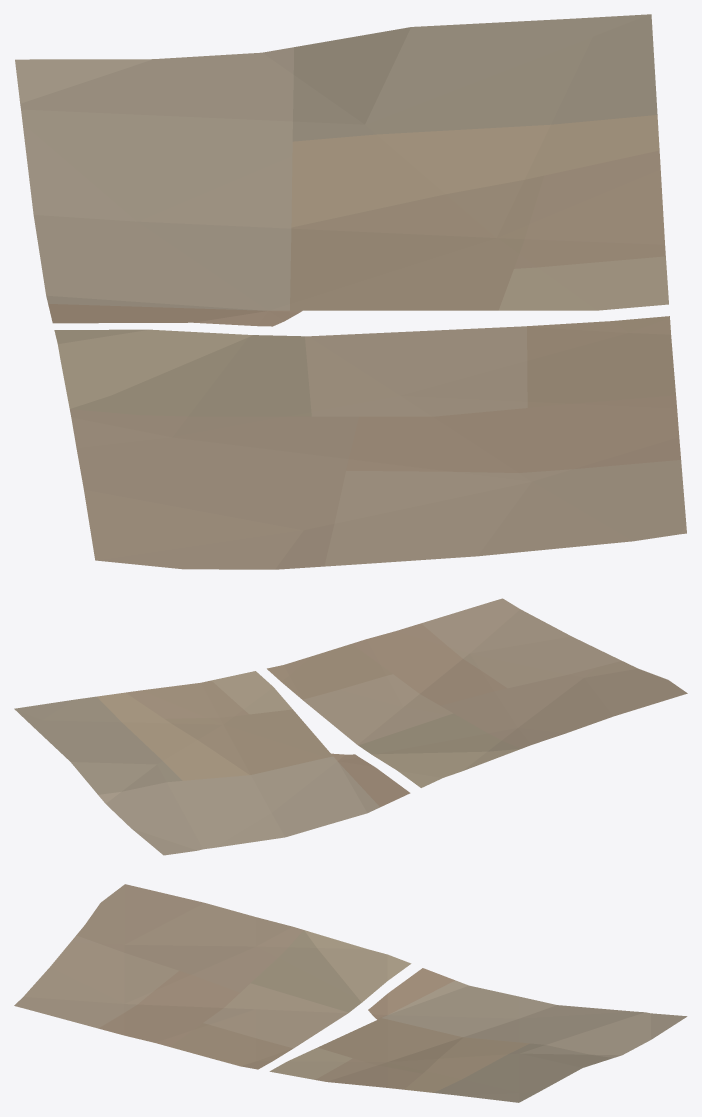
The model's file is farm_-1_-3_soil.glb.
The picture shows the model from 3 angles, top to bottom: view 1: azimuth 30°, elevation 25°; view 2: azimuth 150°, elevation 25°; view 3: azimuth 270°, elevation 25°; orthographic projection. The views are drawn at different scales.
Visible parts, largest first — view 1: geometry_0; view 2: geometry_0; view 3: geometry_0.
Boxes of the visible parts, x1,y1,x2,y2 form: geometry_0: (15,14,686,569); geometry_0: (14,598,687,855); geometry_0: (14,884,687,1102).
Size of the model in its own units: 333 by 29.21 by 409.
